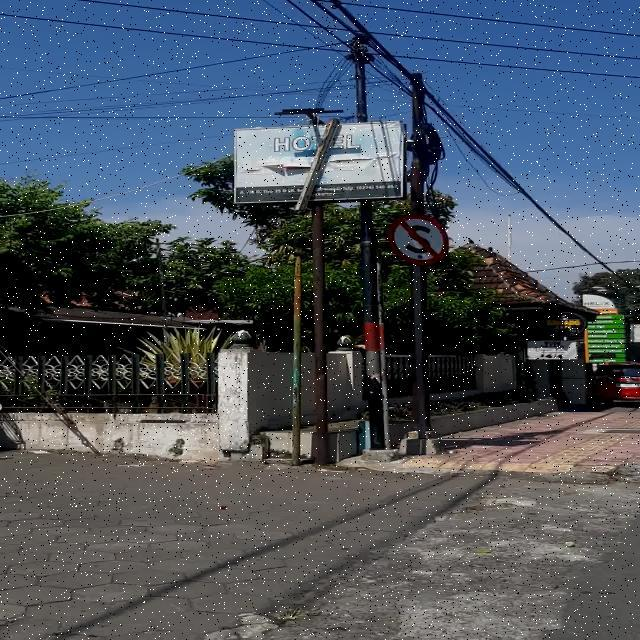Dilarang Berhenti: (388, 213, 448, 266)
